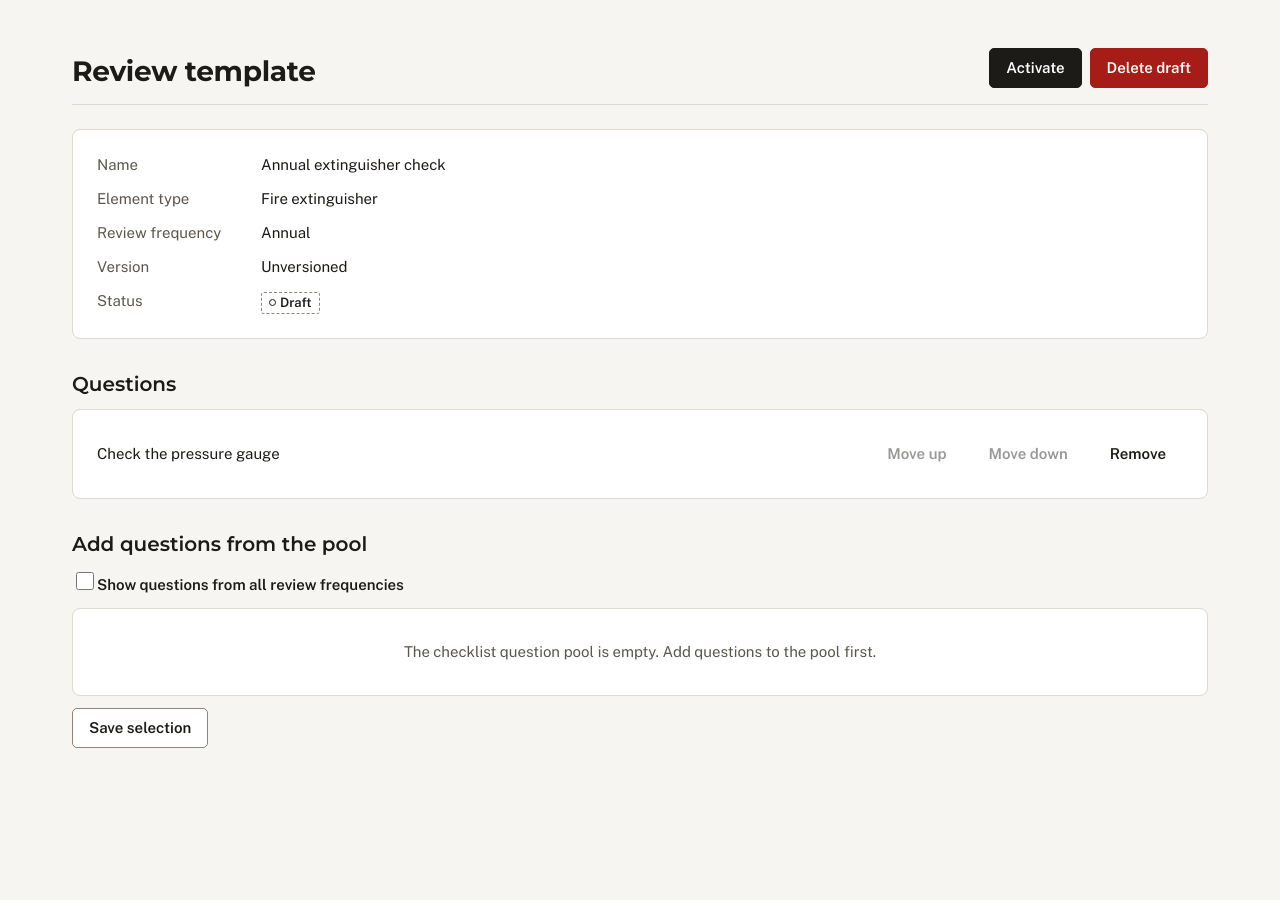
Test: ReviewTemplateDetailPage › draft template › shows a specific message on a 409 REVIEW_TEMPLATE_EMPTY activation rejection (spec: Empty-template rejection is explained specifically)
The width and height of the screenshot is (1280, 900).
What coordinates should you click on to do the following:
click the button with test id "review-template-detail-activate"
I would click on:
 (1036, 68)
Its box is top-left (989, 48), bottom-right (1082, 88).
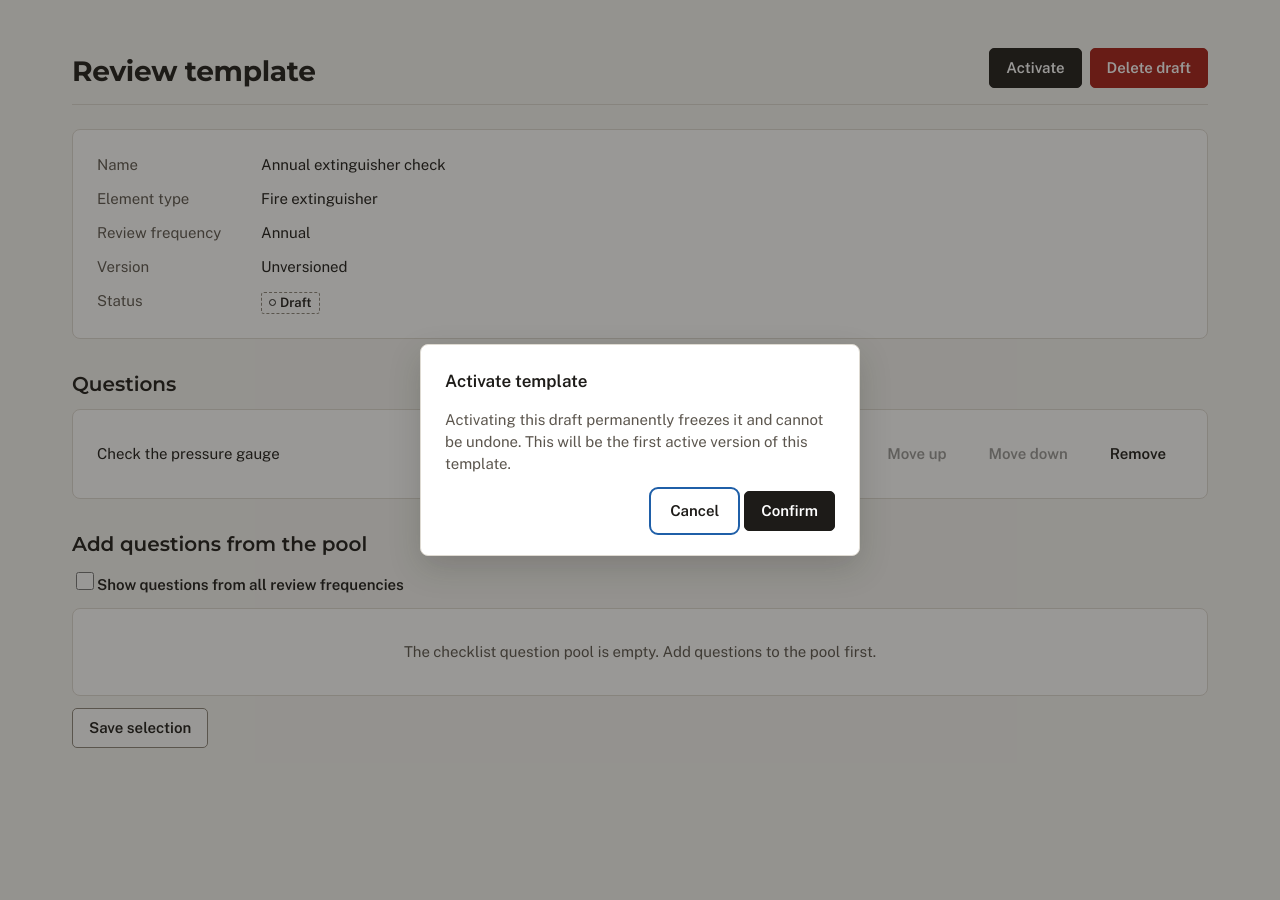
What coordinates should you click on to do the following:
click the button with test id "confirm-dialog-confirm"
I would click on:
 (790, 511)
Its box is top-left (744, 491), bottom-right (835, 531).
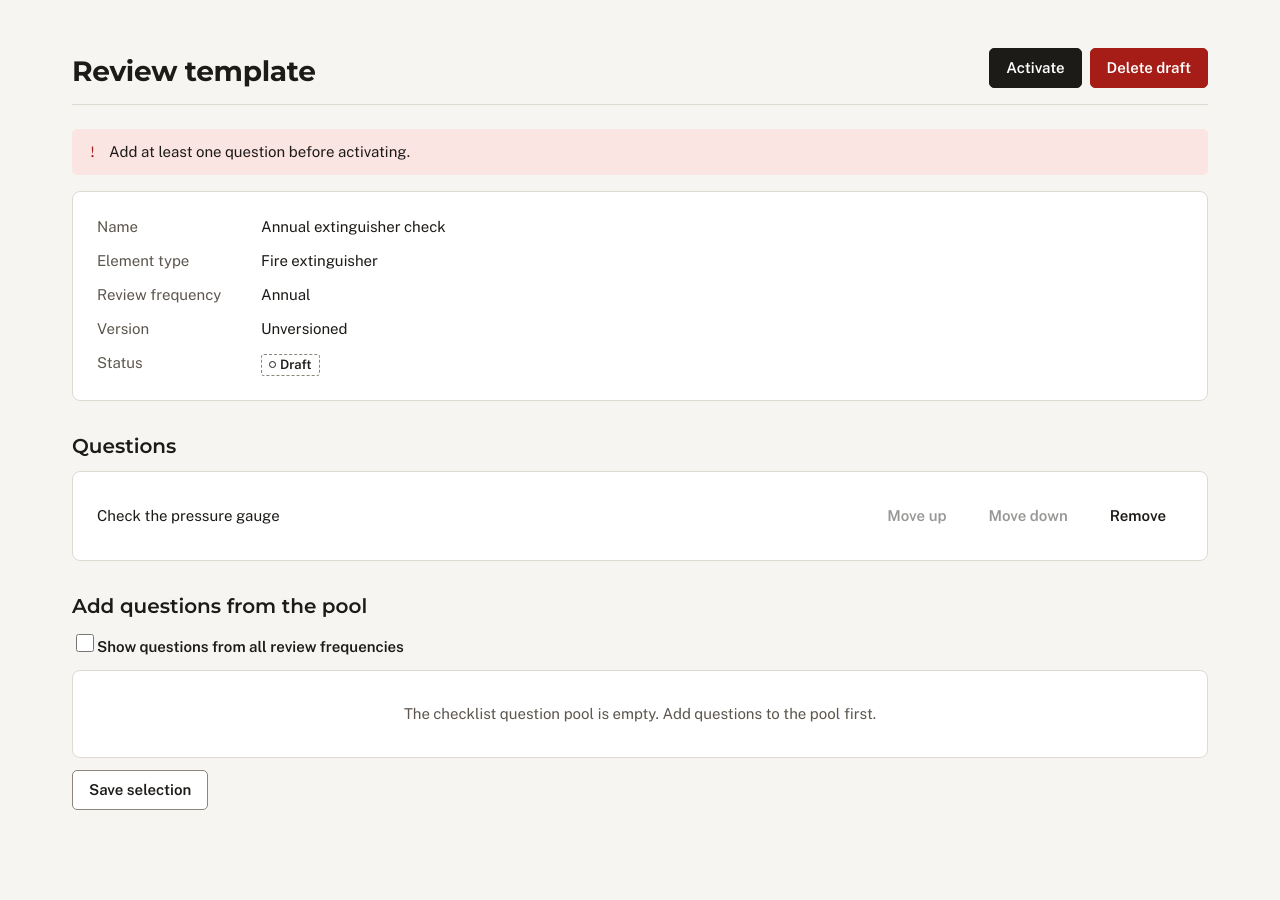
Expected: the message with test id "review-template-detail-activate-error" shows "Add at least one question before activating.", top-left (109, 143), bottom-right (410, 160)
